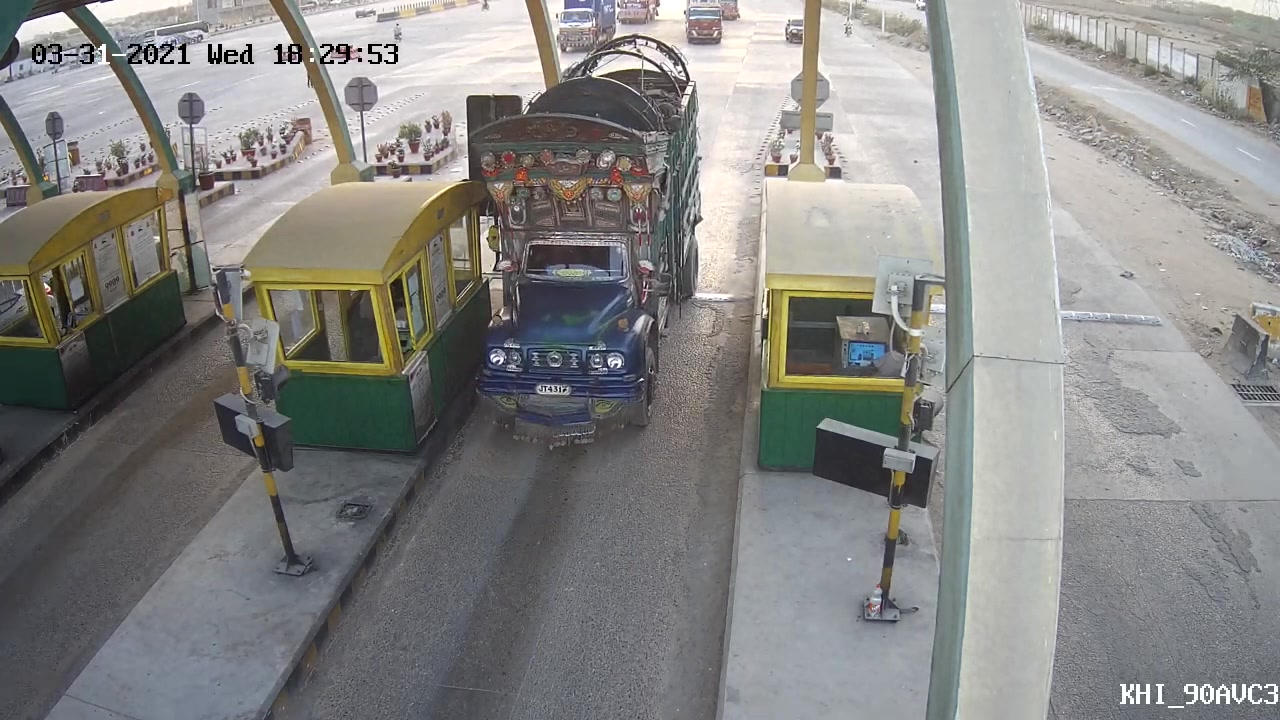F5: (451, 36, 721, 450)
